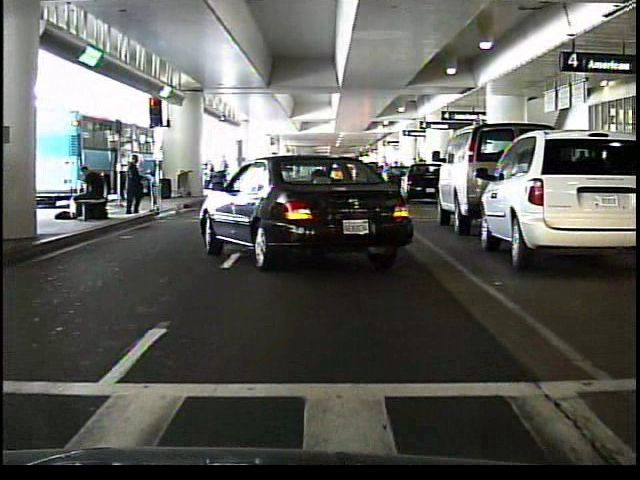person: (70, 163, 107, 226), (116, 149, 142, 213)
